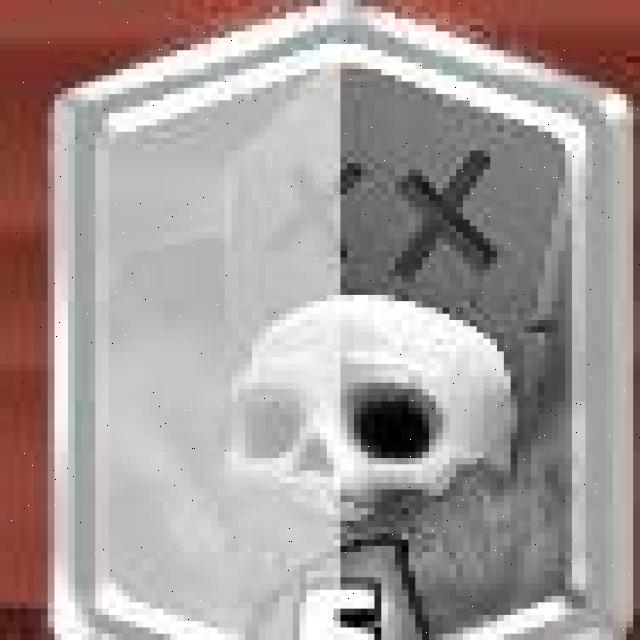Graveyard: (38, 4, 638, 640)
